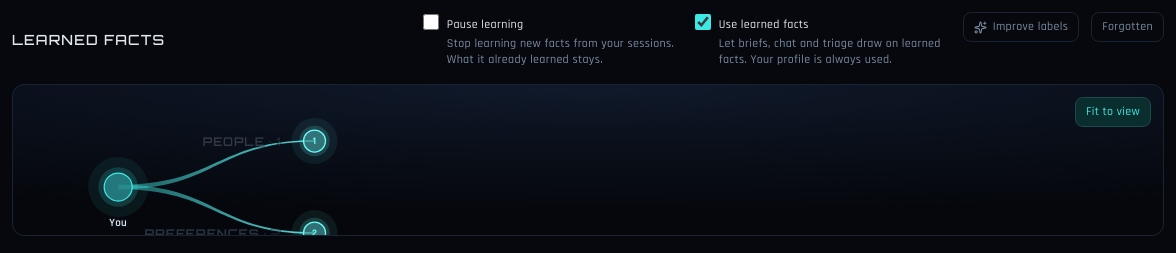
TwinMemoryGraph — label backfill trigger › runs one backfill chunk and refetches so the improved labels actually appear
The image size is (1176, 253).
Click the button "Improve labels".
click(1021, 27)  # box [963,12,1079,42]
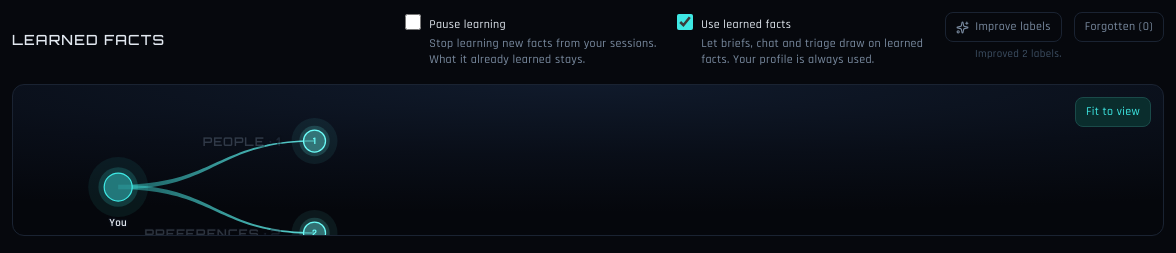
Now the text "Improved 2 labels." is shown, box [975,46,1062,62]
